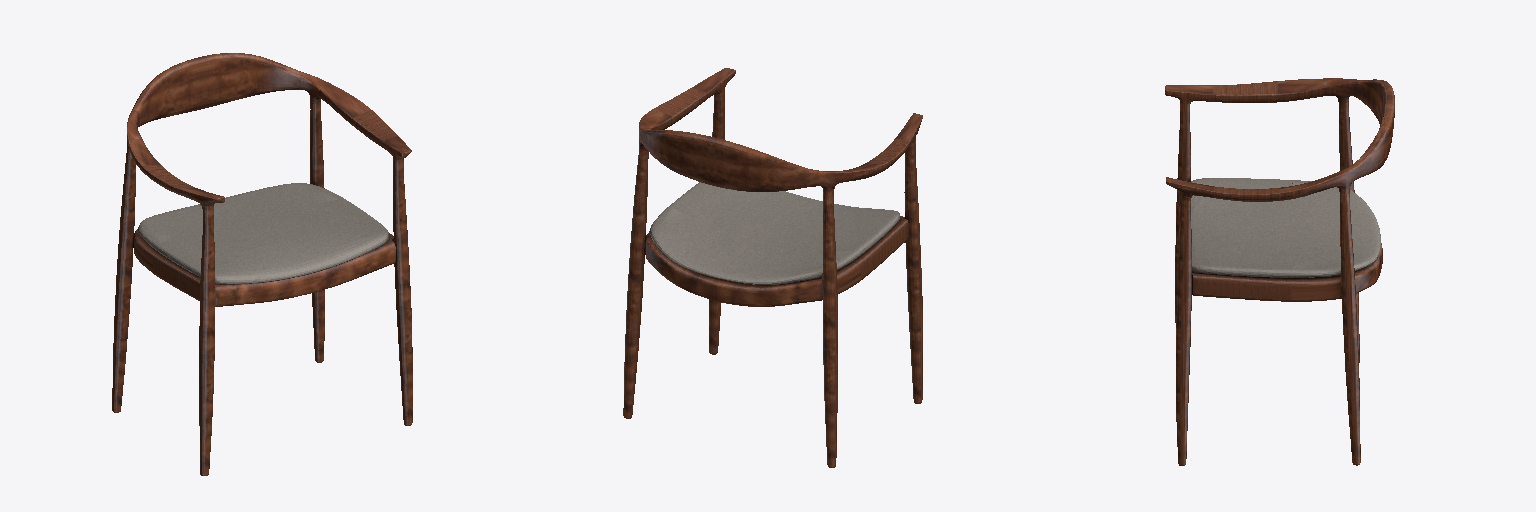
The picture shows the model from 3 angles: view 1: azimuth 30°, elevation 25°; view 2: azimuth 150°, elevation 25°; view 3: azimuth 270°, elevation 25°; orthographic projection.
Parts seen in each view (by area): view 1: solid_001, solid_002; view 2: solid_001, solid_002; view 3: solid_001, solid_002.
Part boxes in pixels (x1,y1,x2,y2): solid_001: (112, 53, 412, 475); solid_002: (138, 183, 388, 284); solid_001: (623, 68, 922, 467); solid_002: (650, 182, 900, 284); solid_001: (1165, 78, 1394, 465); solid_002: (1191, 178, 1380, 277).
Bounding box in the file's own units: 1.1 × 1.45 × 0.9541.
1 materials, 1 textured.